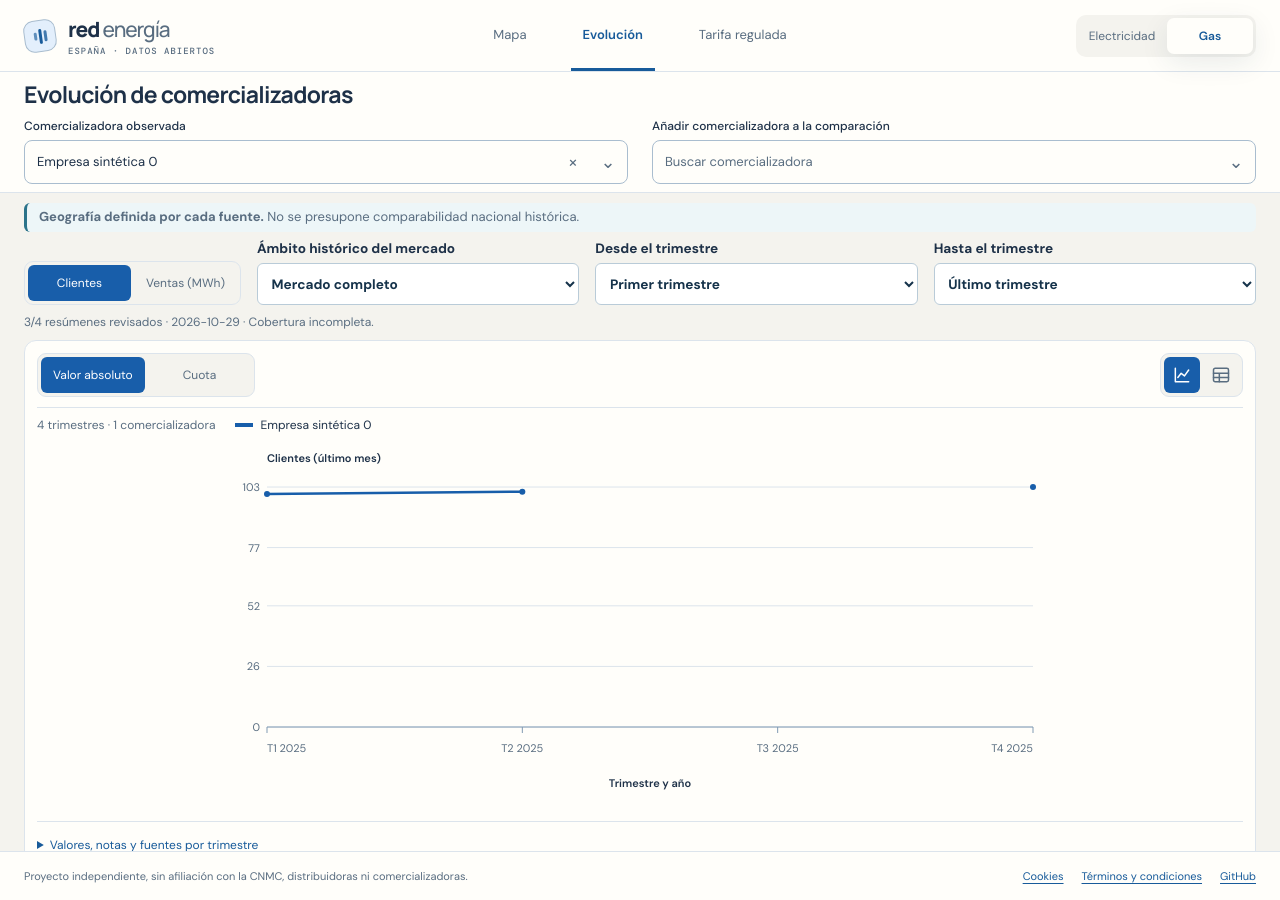
gas evolution › connects consecutive reviewed quarters for one canonical company across documents, but breaks at unreviewed quarters
Expected: the dropdown labelled "Comercializadora observada" is enabled, [24, 140, 628, 184]
Click the button named "Tabla" at [1221, 375], box [1203, 357, 1239, 393]
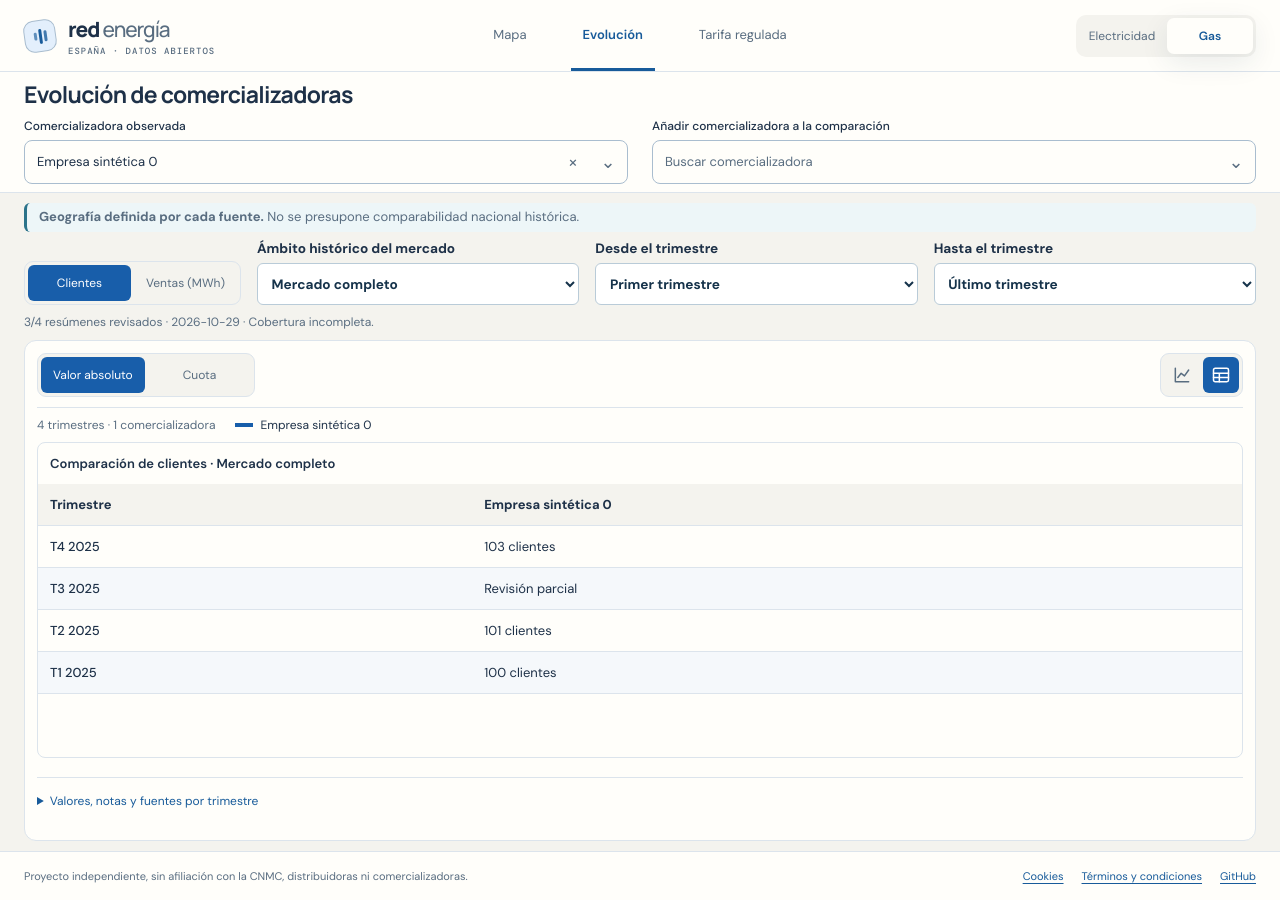
Expected: the cell "Revisión parcial" is shown, [472, 568, 1242, 610]
